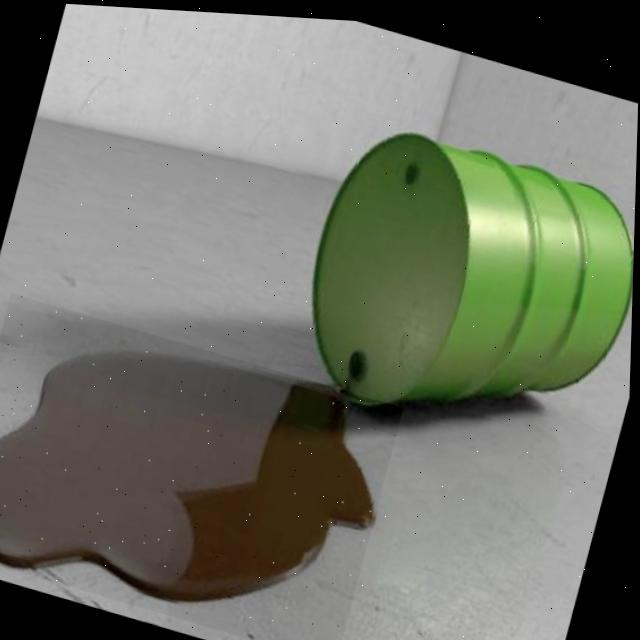spillage: (0, 351, 378, 605)
